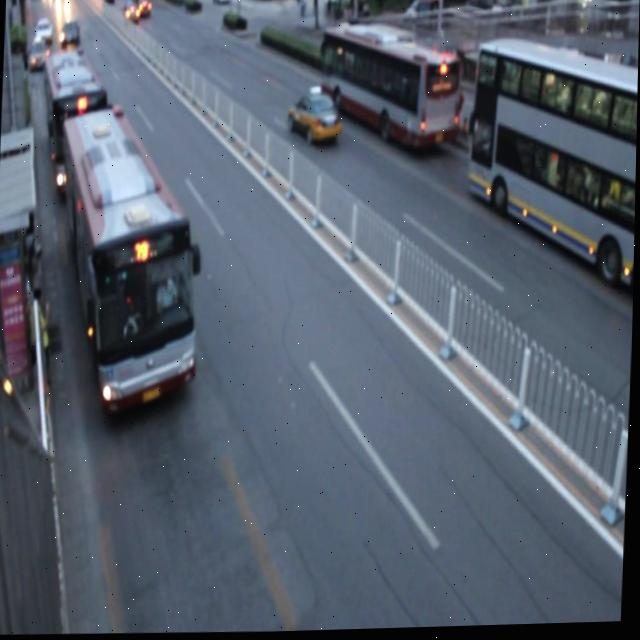car: (287, 91, 342, 149)
van: (464, 37, 639, 320), (51, 110, 205, 408), (317, 24, 458, 151), (37, 42, 109, 191)
